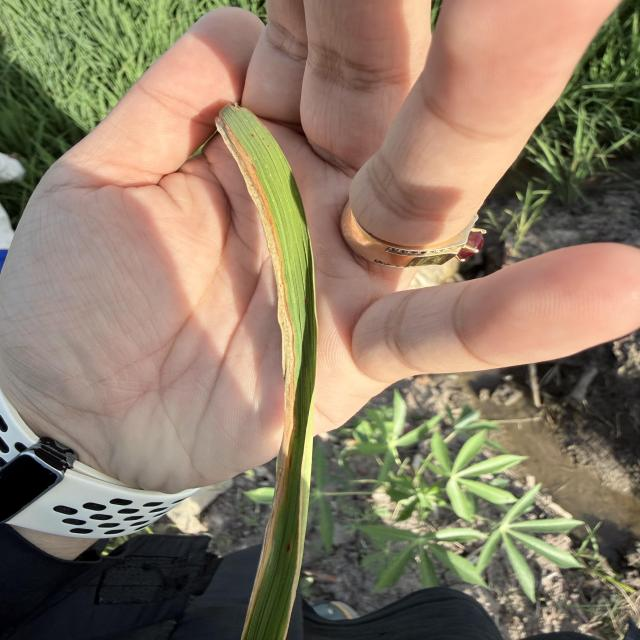Chay bia la: (212, 113, 298, 640)
